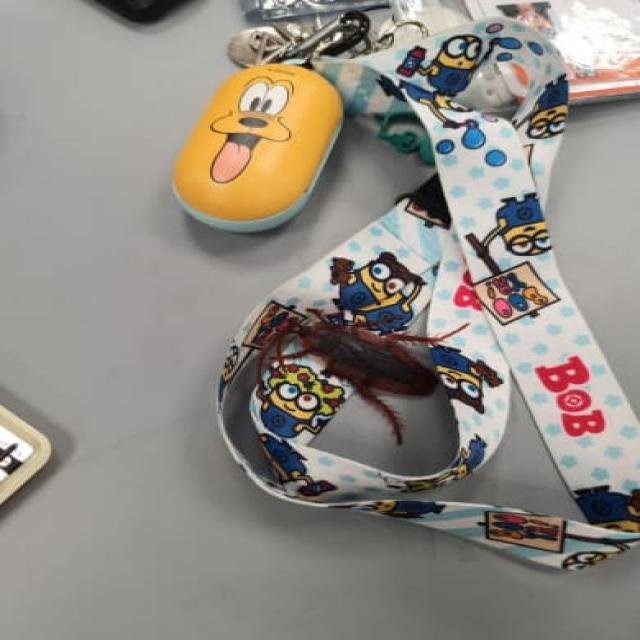Cockroach: (241, 302, 468, 432)
